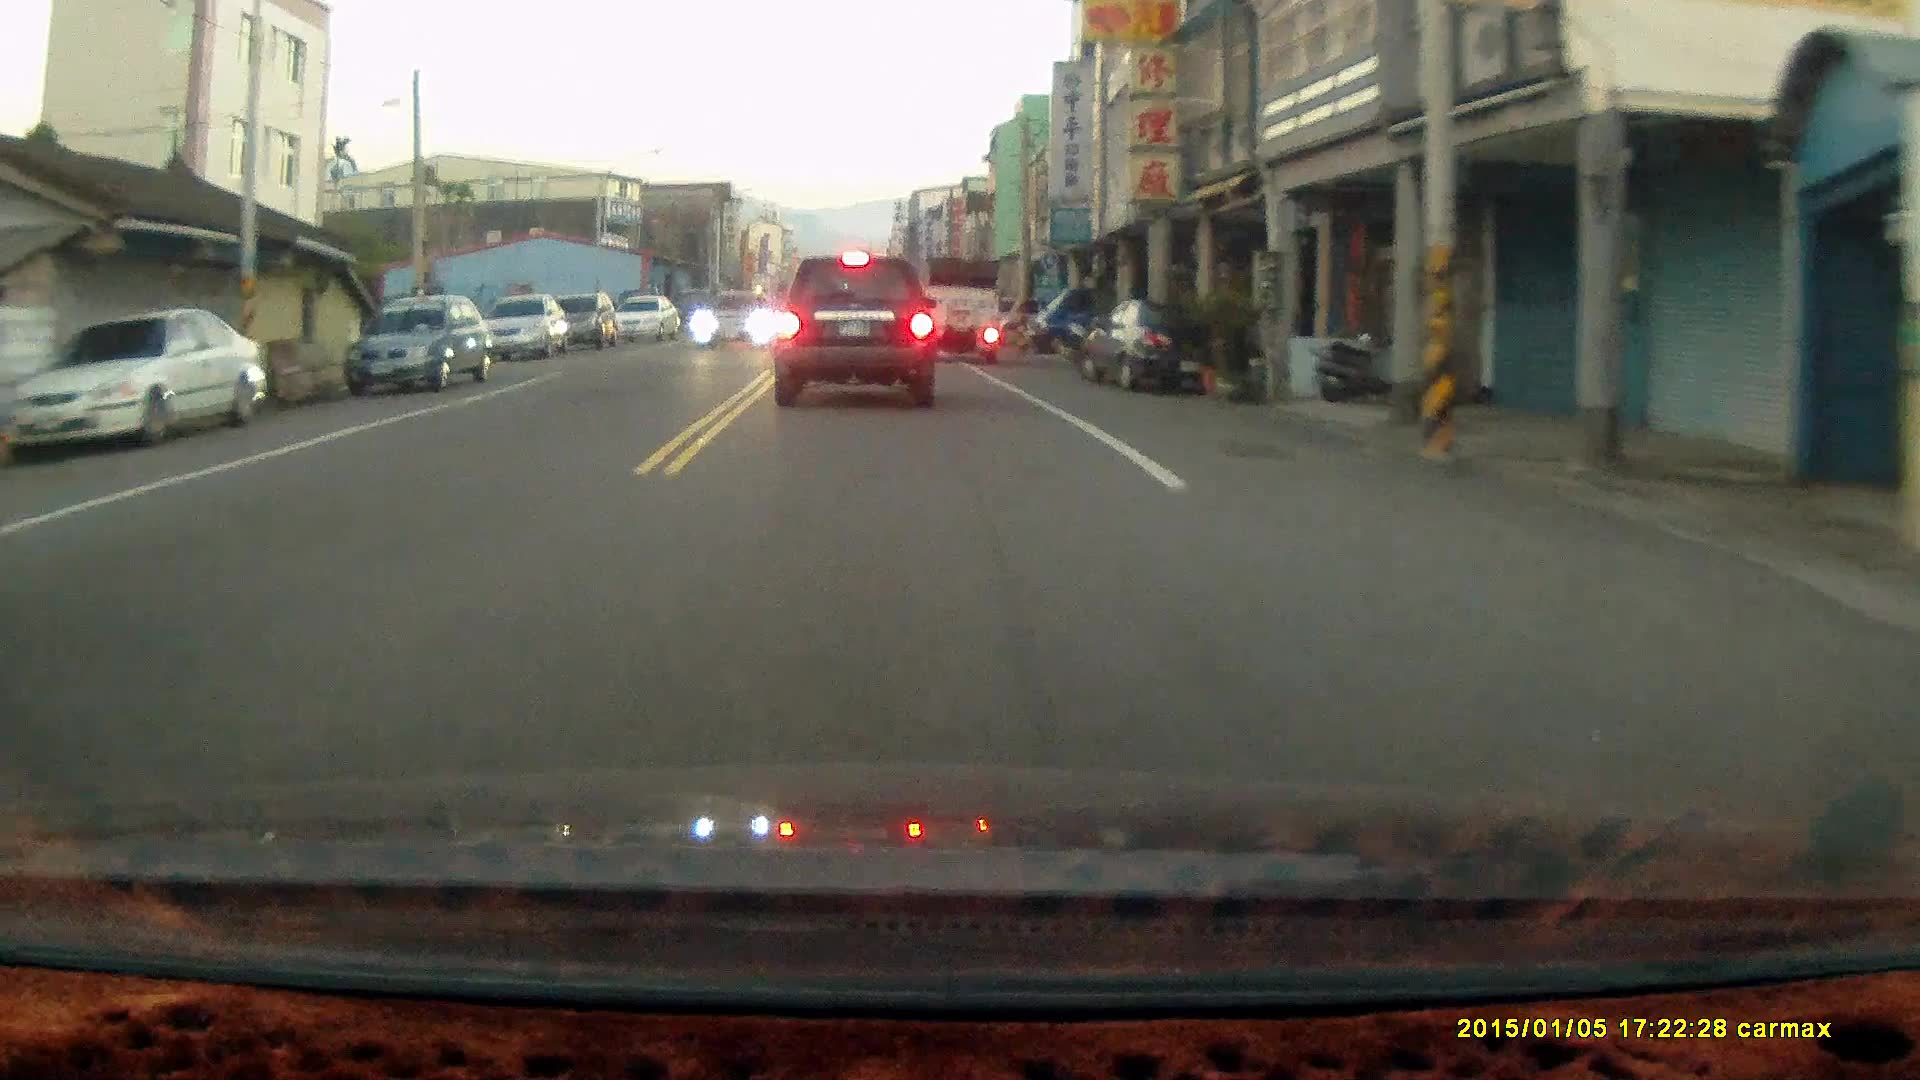vehicle: (8, 307, 258, 450), (773, 253, 938, 409), (1079, 298, 1240, 392), (347, 295, 493, 396), (911, 257, 1007, 371), (1031, 280, 1160, 363), (483, 294, 566, 363), (694, 293, 778, 352), (545, 291, 620, 351), (612, 295, 683, 347)
